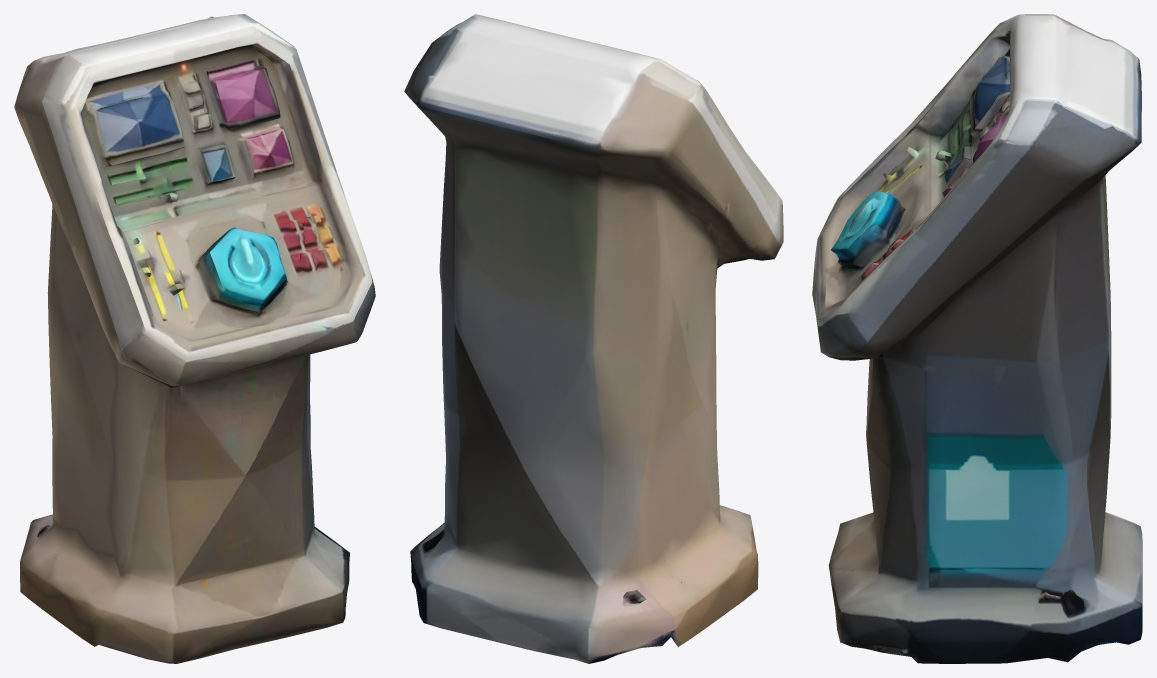
Rendered from power_button.glb.
3 views of the same model, side by side, from view 1: azimuth 30°, elevation 25°; view 2: azimuth 150°, elevation 25°; view 3: azimuth 270°, elevation 25° (orthographic). The views are drawn at different scales.
Parts seen in each view (by area): view 1: world; view 2: world; view 3: world.
Boxes of the visible parts, box(x1,y1,x2,y2) form: world: box(14, 14, 375, 663); world: box(404, 14, 783, 663); world: box(812, 14, 1142, 663).
Size of the model in its own units: 0.5016 by 1 by 0.5503.
1 material, 1 textured.
